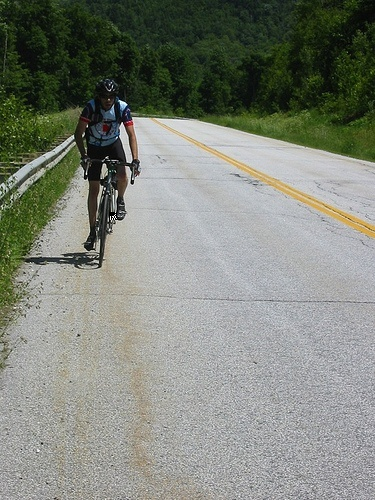car: (80, 157, 139, 267)
person: (75, 79, 140, 251)
person/foot: (116, 200, 127, 221), (83, 233, 97, 249)
person/hand: (130, 160, 142, 174), (81, 158, 91, 170)
person/head: (95, 80, 118, 109)
